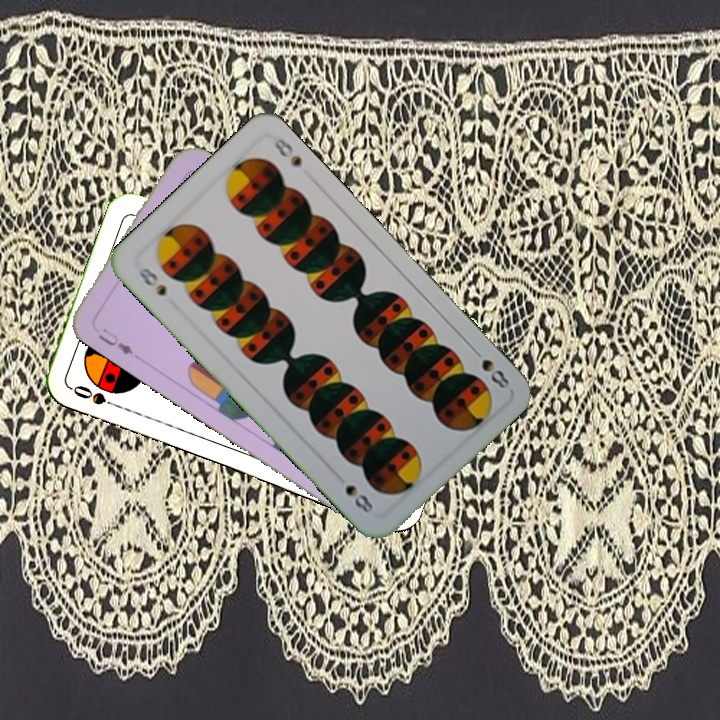EU: (94, 324, 137, 357)
S8: (467, 343, 515, 391), (133, 263, 169, 299)
SO: (67, 381, 124, 412)
